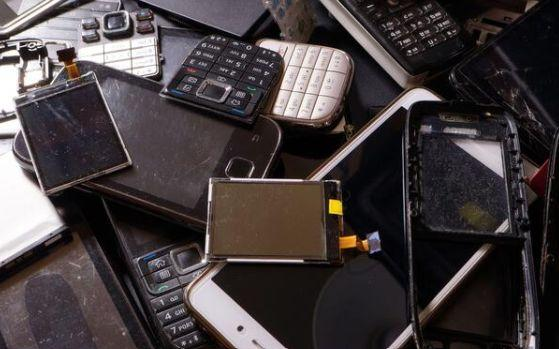electronic: (183, 87, 489, 344), (25, 61, 280, 232), (0, 215, 162, 349), (453, 2, 559, 163), (331, 0, 469, 78), (0, 151, 69, 287), (73, 8, 161, 82), (134, 1, 275, 41)
